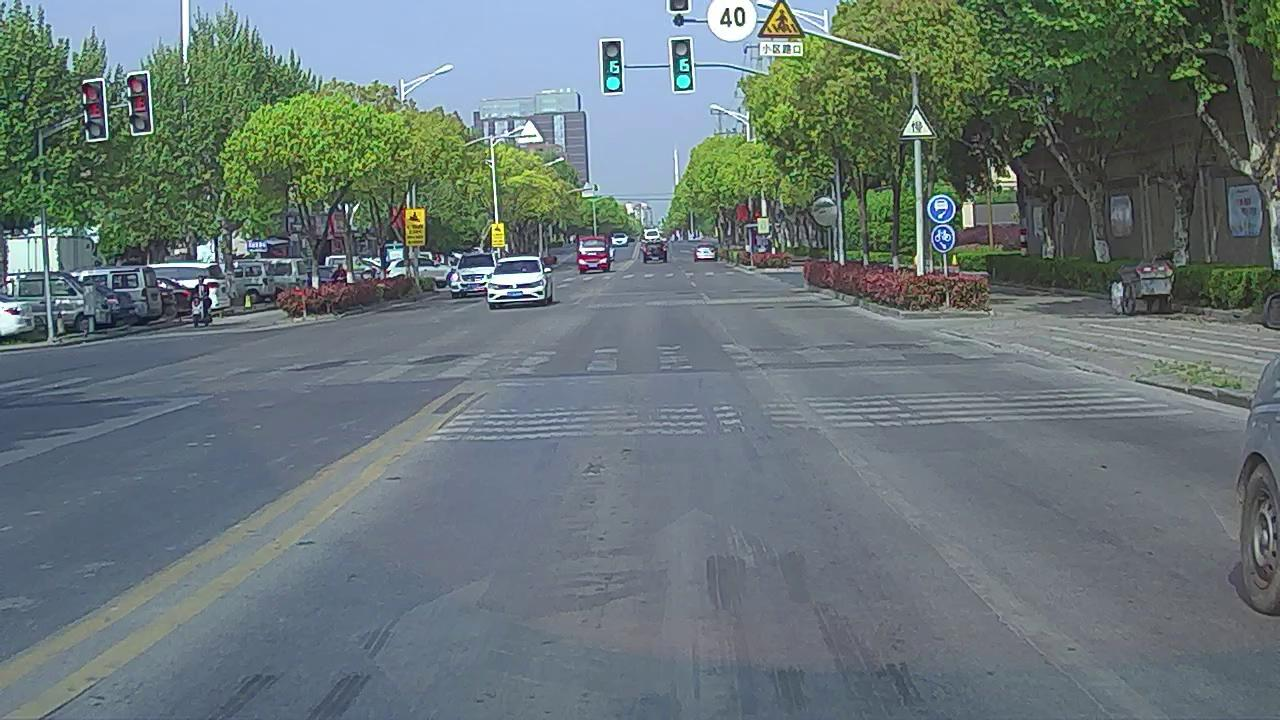traffic_light: (671, 40, 695, 93), (602, 41, 624, 92)
